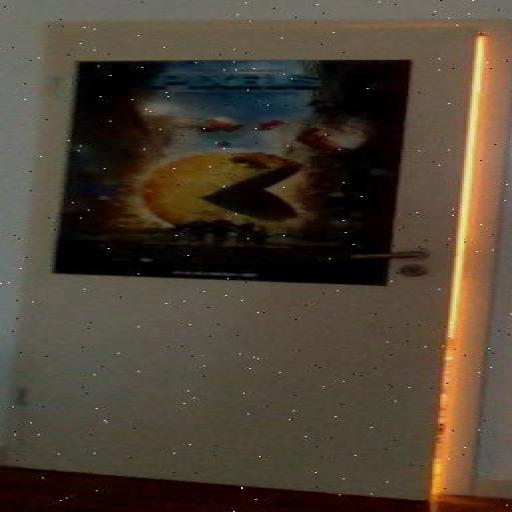door: (2, 15, 512, 502)
